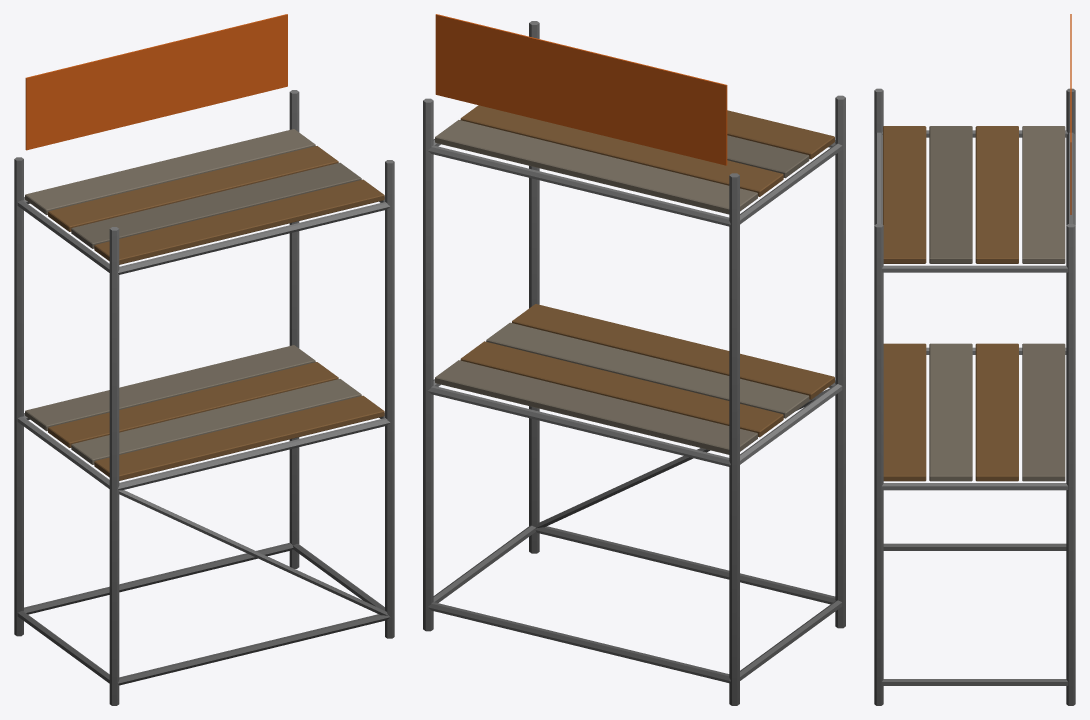
File: scaffold_bay.glb
The picture shows the model from 3 angles, left to right: view 1: azimuth 30°, elevation 25°; view 2: azimuth 150°, elevation 25°; view 3: azimuth 270°, elevation 25°; orthographic projection. The views are drawn at different scales.
Parts seen in each view (by area): view 1: scaffold_bay; view 2: scaffold_bay; view 3: scaffold_bay.
Part boxes in pixels (x1,y1,x2,y2): scaffold_bay: (14, 14, 394, 705); scaffold_bay: (423, 14, 845, 705); scaffold_bay: (874, 14, 1075, 705).
Bounding box in the file's own units: 2.05 × 3.85 × 1.26.
